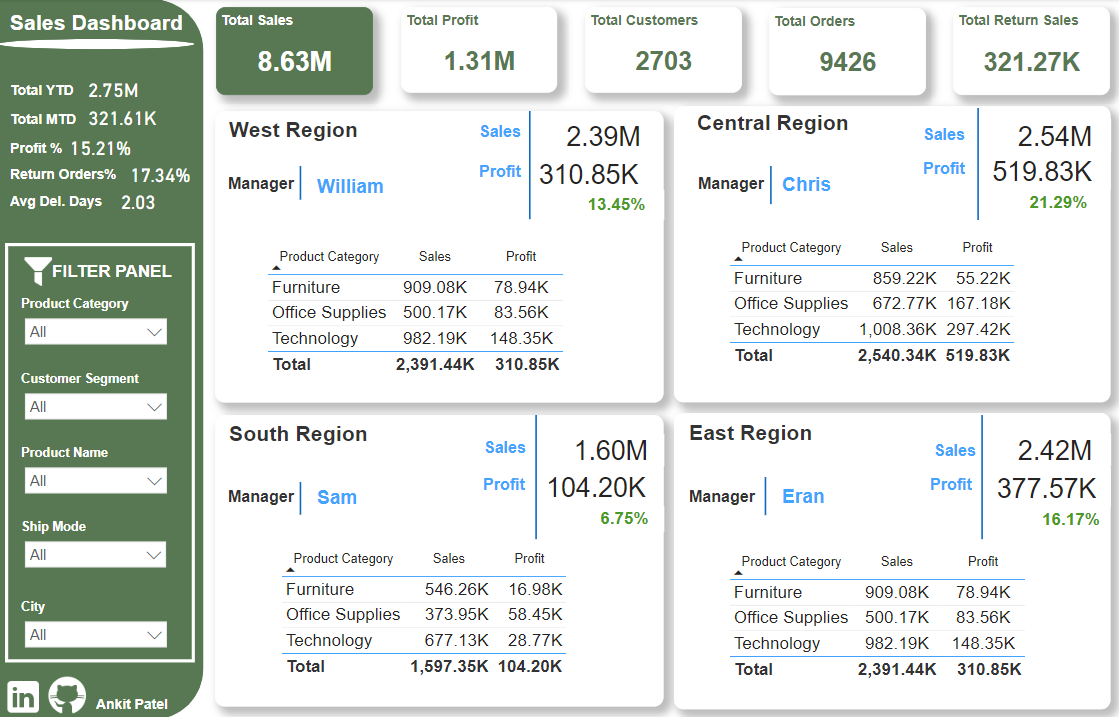

Layout of this report page (visuals, bound fields, positions):
{"tool":"powerbi","page":{"name":"Page 3","canvas":[1400,900],"ordinal":2},"visuals":[{"type":"shape","box":[0,0,256.6,899.9],"z":0},{"type":"shape","box":[8.5,304.8,237.1,523.6],"z":1000},{"type":"textbox","box":[0,10.2,245.8,52.8],"z":2000},{"type":"image","box":[50.1,839,72.8,60.9],"z":3000},{"type":"image","box":[0,842.6,63.3,57.3],"z":4000},{"type":"actionButton","title":"Ankit Patel","box":[121.7,870.1,95.5,26.3],"z":5000},{"type":"image","box":[18.3,316.1,63.5,49.4],"z":6000},{"type":"actionButton","title":"FILTER PANEL","box":[67.7,328.8,153.8,25.4],"z":7000},{"type":"slicer","title":"Product Category","fields":{"Values":["Orders.Product Category"]},"box":[23.9,372.4,196.9,77.6],"z":8000},{"type":"slicer","title":"Customer Segment","fields":{"Values":["Orders.Customer Segment"]},"box":[23.9,465.2,196.9,77.6],"z":9000},{"type":"slicer","title":"Product Name","fields":{"Values":["Orders.Product Name"]},"box":[23.9,558,196.9,77.6],"z":10000},{"type":"slicer","title":"Ship Mode","fields":{"Values":["Orders.Ship Mode"]},"box":[24,650.8,196.2,84.7],"z":11000},{"type":"slicer","title":"City","fields":{"Values":["Orders.City"]},"box":[23.9,750.7,196.9,77.6],"z":12000},{"type":"card","title":"Total Sales","fields":{"Values":["Measures Table.Total Sales"]},"box":[271.6,9.8,196.4,110],"z":13000},{"type":"card","title":"Total Profit","fields":{"Values":["Measures Table.Total Profit"]},"box":[502.9,9.8,195,107.3],"z":14000},{"type":"card","title":"Total Customers","fields":{"Values":["Measures Table.Total Customers"]},"box":[732.7,9.8,196.4,107.3],"z":15000},{"type":"card","title":"Total Return Sales","fields":{"Values":["Measures Table.Total Return Sales"]},"box":[1192.4,9.8,196.4,110],"z":16000},{"type":"card","title":"Total Orders","fields":{"Values":["Measures Table.Total Orders"]},"box":[962.6,11.1,196.4,108.7],"z":17000},{"type":"shape","box":[0,49.4,245.6,12.7],"z":18000},{"type":"card","fields":{"Values":["Measures Table.Total YTD"]},"box":[97.9,95.5,93.1,35.8],"z":19000},{"type":"card","fields":{"Values":["Measures Table.Total MTD"]},"box":[97.4,128.4,115.7,39.5],"z":20000},{"type":"card","fields":{"Values":["Measures Table.Return orders %"]},"box":[156.7,200.4,93.1,36.7],"z":21000},{"type":"card","fields":{"Values":["Measures Table.Profit %"]},"box":[52.2,169.4,151,31],"z":22000},{"type":"actionButton","title":"Total YTD","box":[15.5,103.8,95.5,27.5],"z":23000},{"type":"actionButton","title":"Total MTD","box":[15.5,139.7,96,28.2],"z":24000},{"type":"actionButton","title":"Profit %","box":[15.5,175.7,96,22.6],"z":25000},{"type":"actionButton","title":"Return Orders%","box":[15.5,208.9,141.1,28.2],"z":26000},{"type":"actionButton","title":"Avg Del. Days","box":[15.5,242.7,141.1,28.2],"z":27000},{"type":"card","fields":{"Values":["Avg(Orders.Delivery Days)"]},"box":[128.4,232.9,93.1,38.1],"z":28000},{"type":"shape","box":[271,139.7,560.3,364.1],"z":29000},{"type":"shape","box":[271,519.4,560.3,364.1],"z":30000},{"type":"shape","box":[844,134.1,544.8,369.8],"z":31000},{"type":"shape","box":[844,516.5,544.8,369.8],"z":32000},{"type":"card","fields":{"Values":["Users.Total West Sales"]},"box":[697.2,149.6,115.7,42.3],"z":33000},{"type":"card","fields":{"Values":["Users.Total West Profit"]},"box":[661.9,194.8,151,46.6],"z":34000},{"type":"card","fields":{"Values":["Users.Total Central Sales"]},"box":[1249,149.6,139.7,42.3],"z":35000},{"type":"card","fields":{"Values":["Users.Total Central Profit"]},"box":[1216.5,191.9,172.2,45.2],"z":36000},{"type":"card","fields":{"Values":["Users.Total South Sales"]},"box":[697.2,543.3,134.1,39.5],"z":37000},{"type":"card","fields":{"Values":["Users.Total South Profit"]},"box":[661.9,582.9,169.4,52.2],"z":38000},{"type":"card","fields":{"Values":["Users.Total East Sales"]},"box":[1249,543.3,139.7,39.5],"z":39000},{"type":"card","fields":{"Values":["Users.Total East Profit"]},"box":[1227.8,585.7,160.9,49.4],"z":40000},{"type":"actionButton","title":"Sales","box":[599.8,155.2,72,29.6],"z":41000},{"type":"actionButton","title":"Profit","box":[599.8,204.6,72,26.8],"z":42000},{"type":"shape","box":[654.8,139.7,16.9,135.5],"z":43000},{"type":"actionButton","title":"Sales","box":[606.9,549,96,26.8],"z":44000},{"type":"shape","box":[664.7,519.4,12.7,155.2],"z":45000},{"type":"actionButton","title":"Profit","box":[605.4,595.6,72,26.8],"z":46000},{"type":"shape","box":[1222.2,519.4,12.7,155.2],"z":47000},{"type":"actionButton","title":"Sales","box":[1168.5,553.2,96,26.8],"z":48000},{"type":"actionButton","title":"Profit","box":[1162.9,595.6,72,26.8],"z":49000},{"type":"shape","box":[1216.5,135.5,12.7,139.7],"z":50000},{"type":"actionButton","title":"Sales","box":[1154.4,158.1,90.3,21.2],"z":51000},{"type":"actionButton","title":"Profit","box":[1154.4,200.4,72,26.8],"z":52000},{"type":"actionButton","title":"West Region","box":[287.9,148.2,179.2,31],"z":53000},{"type":"actionButton","title":"Central Region","box":[872.9,139.4,210.1,40.1],"z":54000},{"type":"actionButton","title":"East Region","box":[862.3,526.4,179.2,31],"z":55000},{"type":"actionButton","title":"South Region","box":[287.9,527.8,179.2,31],"z":56000},{"type":"card","fields":{"Values":["Measures Table.Profit %"]},"box":[1264.5,237.1,118.5,33.9],"z":57000},{"type":"card","fields":{"Values":["Measures Table.Profit %"]},"box":[1291.3,635.1,97.4,29.6],"z":58000},{"type":"card","fields":{"Values":["Measures Table.Profit %"]},"box":[732.5,632.3,98.8,32.5],"z":59000},{"type":"card","fields":{"Values":["Measures Table.Profit %"]},"box":[712.7,238.5,118.5,36.7],"z":60000},{"type":"actionButton","title":"Manager","box":[287.1,219.2,88.3,27.2],"z":61000},{"type":"actionButton","title":"Manager","box":[287.1,610,88.3,27.2],"z":62000},{"type":"actionButton","title":"Manager","box":[863.1,610,88.3,27.2],"z":63000},{"type":"actionButton","title":"Manager","box":[873.3,219.2,88.3,27.2],"z":64000},{"type":"shape","box":[370.4,209,13.6,42.5],"z":65000},{"type":"shape","box":[370.4,603.2,13.6,40.8],"z":66000},{"type":"shape","box":[951.5,209,27.2,47.6],"z":67000},{"type":"shape","box":[951.5,596.4,13.6,47.6],"z":68000},{"type":"actionButton","title":"William","box":[397.6,219.2,105.3,32.3],"z":69000},{"type":"actionButton","title":"Chris","box":[978.6,217.5,105.3,32.3],"z":70000},{"type":"actionButton","title":"Eran","box":[978.6,606.6,105.3,32.3],"z":71000},{"type":"actionButton","title":"Sam","box":[397.6,608.3,105.3,32.3],"z":72000},{"type":"tableEx","fields":{"Values":["Orders.Product Category","Users.Total West Sales","Users.Total West Profit"]},"box":[330.8,304.6,389.5,186],"z":73000},{"type":"tableEx","fields":{"Values":["Orders.Product Category","Users.Total Central Sales","Users.Total Central Profit"]},"box":[907.5,293.3,375.7,186],"z":74000},{"type":"tableEx","fields":{"Values":["Orders.Product Category","Users.Total South Sales","Users.Total South Profit"]},"box":[348.3,681.6,384.5,189.7],"z":74001},{"type":"tableEx","fields":{"Values":["Orders.Product Category","Users.Total West Sales","Users.Total West Profit"]},"box":[907.5,685.3,388.2,186],"z":74002}]}

Visuals, with their boxes in screenshot pixels (x1, y1, x2, y2), scaled from the page's 1400x900 canvas onto the 1119x717 screenshot:
shape: bbox(0, 0, 205, 716)
shape: bbox(7, 243, 196, 660)
textbox: bbox(0, 8, 196, 50)
image: bbox(40, 668, 98, 716)
image: bbox(0, 671, 51, 716)
"Ankit Patel" actionButton: bbox(97, 693, 174, 714)
image: bbox(15, 252, 65, 291)
"FILTER PANEL" actionButton: bbox(54, 262, 177, 282)
"Product Category" slicer: bbox(19, 297, 176, 358)
"Customer Segment" slicer: bbox(19, 371, 176, 432)
"Product Name" slicer: bbox(19, 445, 176, 506)
"Ship Mode" slicer: bbox(19, 518, 176, 586)
"City" slicer: bbox(19, 598, 176, 660)
"Total Sales" card: bbox(217, 8, 374, 95)
"Total Profit" card: bbox(402, 8, 558, 93)
"Total Customers" card: bbox(586, 8, 743, 93)
"Total Return Sales" card: bbox(953, 8, 1110, 95)
"Total Orders" card: bbox(769, 9, 926, 95)
shape: bbox(0, 39, 196, 49)
card - Measures Table.Total YTD: bbox(78, 76, 153, 105)
card - Measures Table.Total MTD: bbox(78, 102, 170, 134)
card - Measures Table.Return orders %: bbox(125, 160, 200, 189)
card - Measures Table.Profit %: bbox(42, 135, 162, 160)
"Total YTD" actionButton: bbox(12, 83, 89, 105)
"Total MTD" actionButton: bbox(12, 111, 89, 134)
"Profit %" actionButton: bbox(12, 140, 89, 158)
"Return Orders%" actionButton: bbox(12, 166, 125, 189)
"Avg Del. Days" actionButton: bbox(12, 193, 125, 216)
card - Avg(Orders.Delivery Days): bbox(103, 186, 177, 216)
shape: bbox(217, 111, 664, 401)
shape: bbox(217, 414, 664, 704)
shape: bbox(675, 107, 1110, 401)
shape: bbox(675, 411, 1110, 706)
card - Users.Total West Sales: bbox(557, 119, 650, 153)
card - Users.Total West Profit: bbox(529, 155, 650, 192)
card - Users.Total Central Sales: bbox(998, 119, 1110, 153)
card - Users.Total Central Profit: bbox(972, 153, 1110, 189)
card - Users.Total South Sales: bbox(557, 433, 664, 464)
card - Users.Total South Profit: bbox(529, 464, 664, 506)
card - Users.Total East Sales: bbox(998, 433, 1110, 464)
card - Users.Total East Profit: bbox(981, 467, 1110, 506)
"Sales" actionButton: bbox(479, 124, 537, 147)
"Profit" actionButton: bbox(479, 163, 537, 184)
shape: bbox(523, 111, 537, 219)
"Sales" actionButton: bbox(485, 437, 562, 459)
shape: bbox(531, 414, 541, 537)
"Profit" actionButton: bbox(484, 474, 541, 496)
shape: bbox(977, 414, 987, 537)
"Sales" actionButton: bbox(934, 441, 1011, 462)
"Profit" actionButton: bbox(929, 474, 987, 496)
shape: bbox(972, 108, 982, 219)
"Sales" actionButton: bbox(923, 126, 995, 143)
"Profit" actionButton: bbox(923, 160, 980, 181)
"West Region" actionButton: bbox(230, 118, 373, 143)
"Central Region" actionButton: bbox(698, 111, 866, 143)
"East Region" actionButton: bbox(689, 419, 832, 444)
"South Region" actionButton: bbox(230, 420, 373, 445)
card - Measures Table.Profit %: bbox(1011, 189, 1105, 216)
card - Measures Table.Profit %: bbox(1032, 506, 1110, 530)
card - Measures Table.Profit %: bbox(585, 504, 664, 530)
card - Measures Table.Profit %: bbox(570, 190, 664, 219)
"Manager" actionButton: bbox(229, 175, 300, 196)
"Manager" actionButton: bbox(229, 486, 300, 508)
"Manager" actionButton: bbox(690, 486, 760, 508)
"Manager" actionButton: bbox(698, 175, 769, 196)
shape: bbox(296, 167, 307, 200)
shape: bbox(296, 481, 307, 513)
shape: bbox(761, 167, 782, 204)
shape: bbox(761, 475, 771, 513)
"William" actionButton: bbox(318, 175, 402, 200)
"Chris" actionButton: bbox(782, 173, 866, 199)
"Eran" actionButton: bbox(782, 483, 866, 509)
"Sam" actionButton: bbox(318, 485, 402, 510)
tableEx - Orders.Product Category x Users.Total West Sales: bbox(264, 243, 576, 391)
tableEx - Orders.Product Category x Users.Total Central Sales: bbox(725, 234, 1026, 382)
tableEx - Orders.Product Category x Users.Total South Sales: bbox(278, 543, 586, 694)
tableEx - Orders.Product Category x Users.Total West Sales: bbox(725, 546, 1036, 694)
